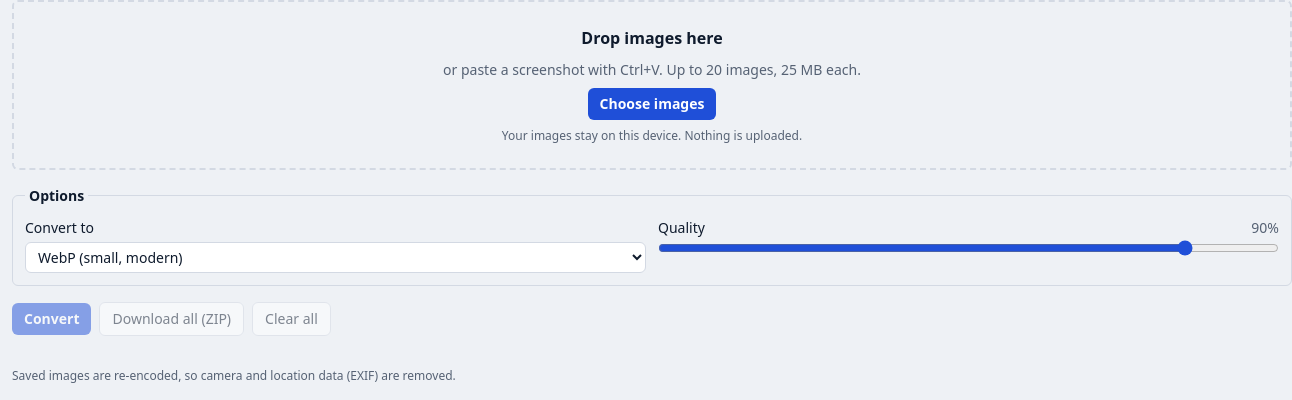
Test case: Image Converter › hides the quality slider for PNG output
The image size is (1292, 400).
Select "PNG (lossless, transparency)" in the dropdown labelled "Convert to" at (336, 257), box [25, 242, 646, 273]
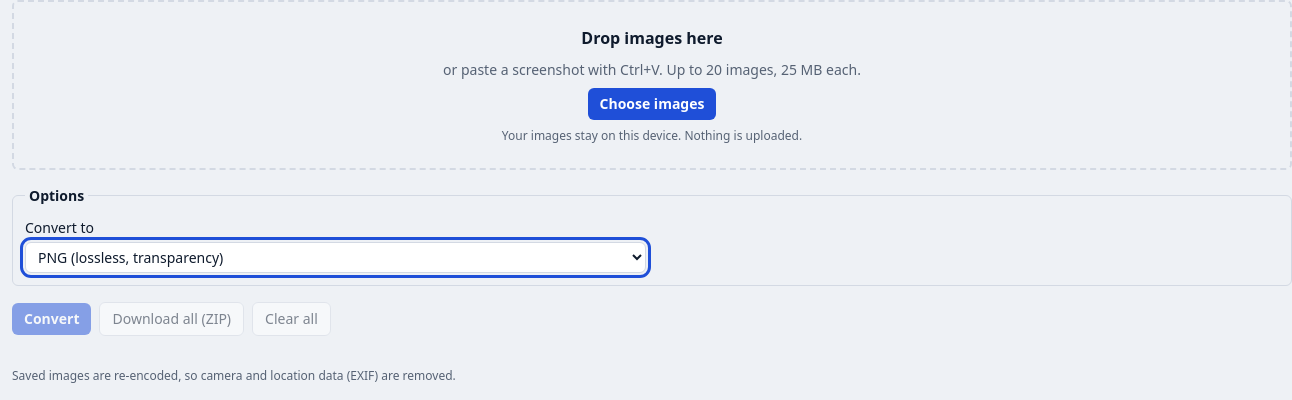
Expected: the text labelled "Quality" is gone
Select "JPG (works everywhere)" in the dropdown labelled "Convert to" at (336, 257), box [25, 242, 646, 273]
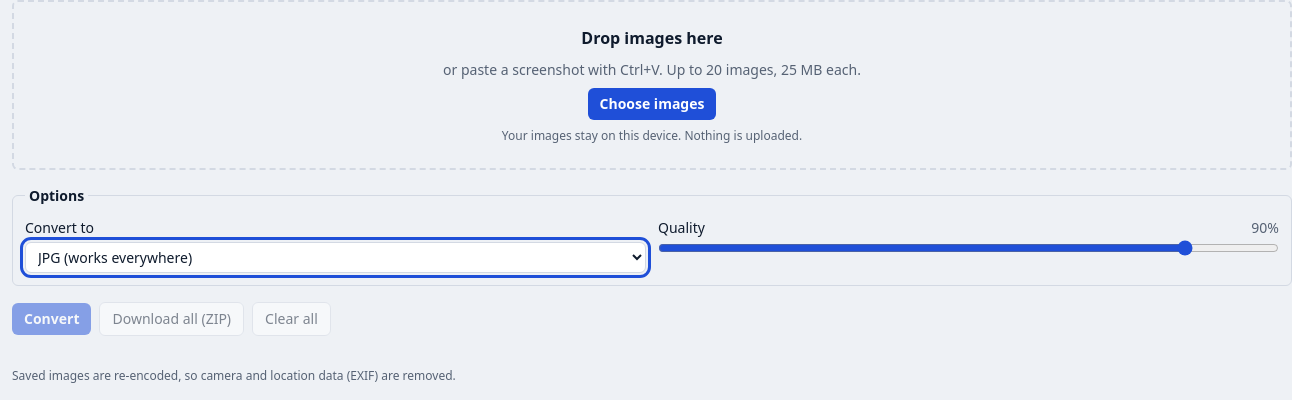
Expected: the slider labelled "Quality 90%" is shown, [658, 240, 1279, 256]
